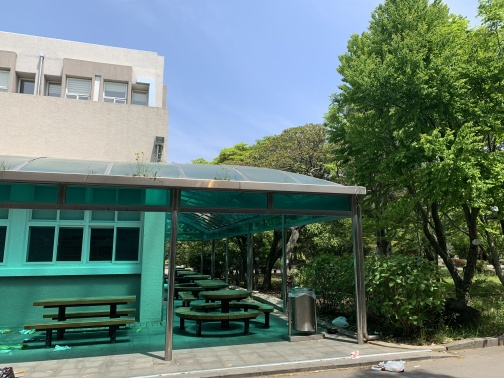Ara Hall: (2, 146, 375, 363)
